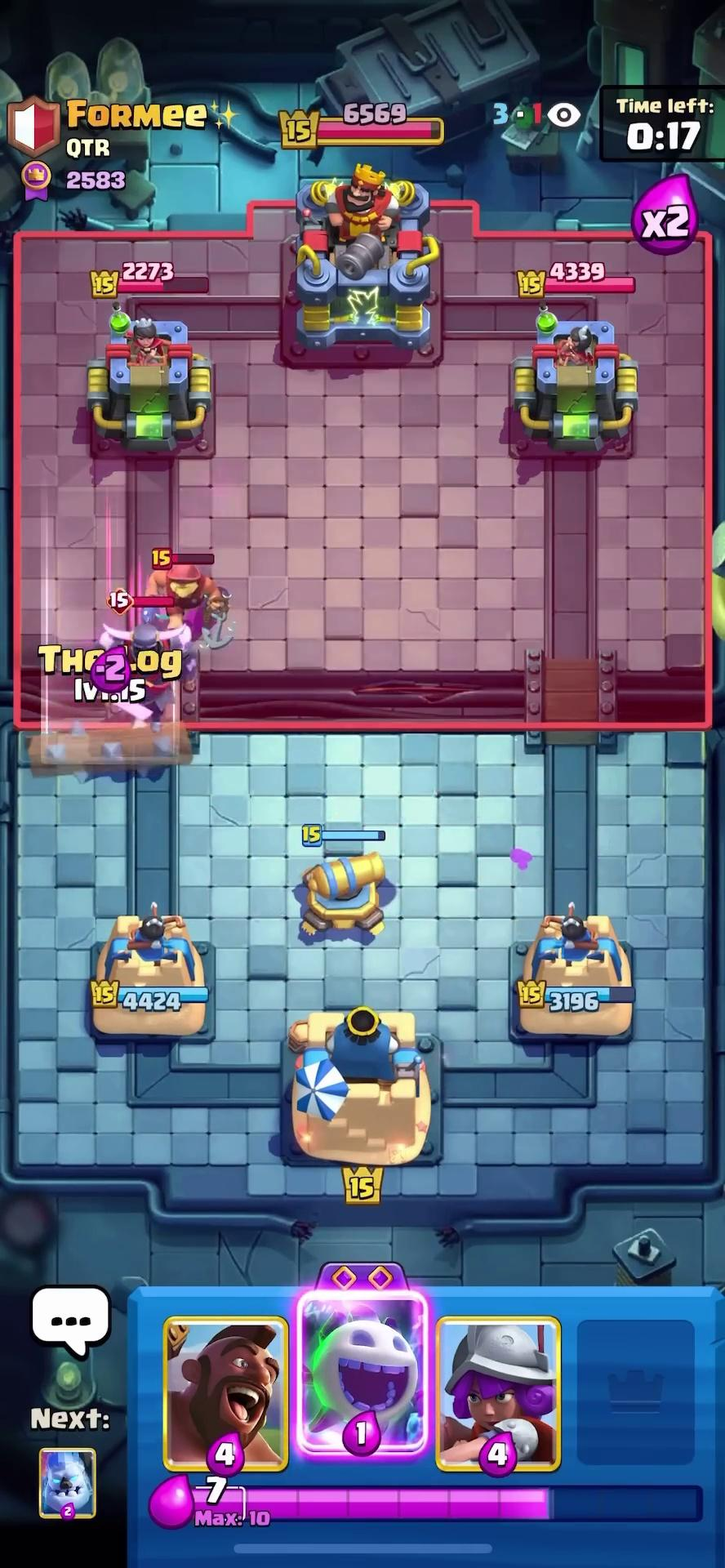cannon: (286, 839, 390, 941)
